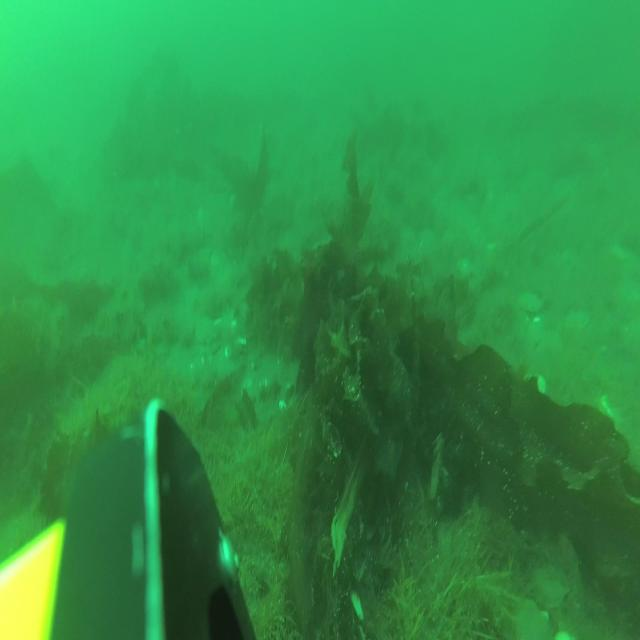scallop: (535, 556, 571, 608), (510, 592, 548, 640), (564, 304, 592, 331), (194, 314, 217, 346), (518, 289, 543, 317)
